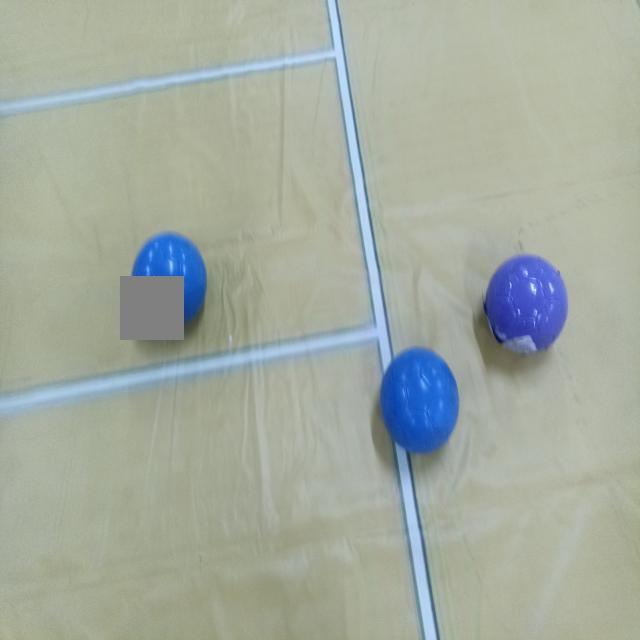blue_ball: (379, 347, 462, 450), (128, 230, 210, 334)
purple_ball: (484, 248, 568, 360)
